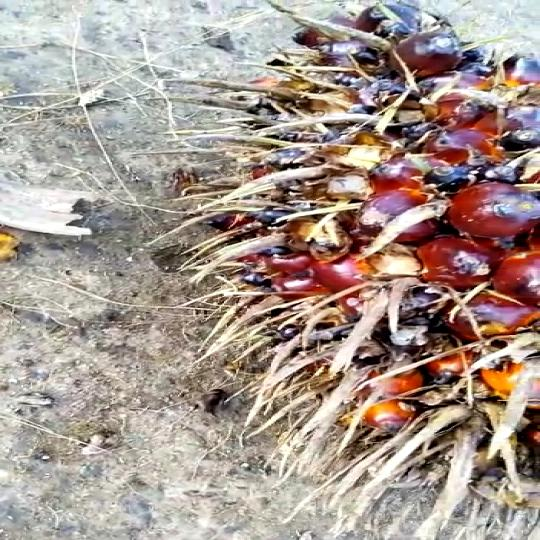terlalu masak: (139, 5, 540, 540)
